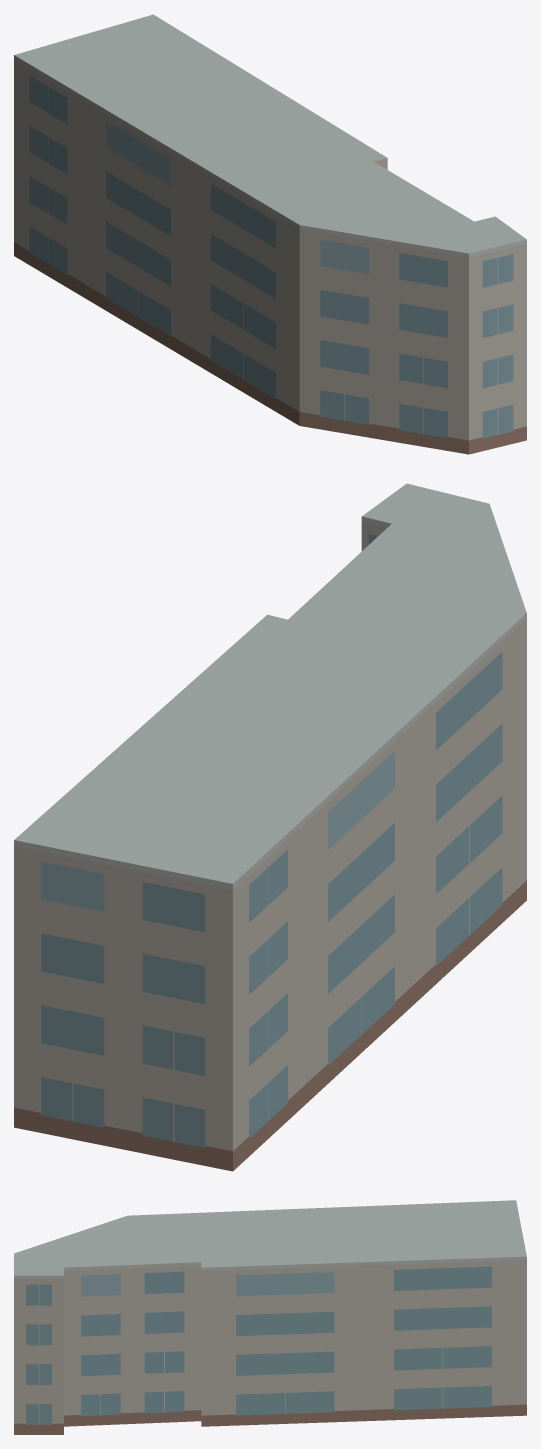
Rendered from survey-upis-32485203.glb.
3 views of the same model, one above another, from view 1: azimuth 30°, elevation 25°; view 2: azimuth 150°, elevation 25°; view 3: azimuth 270°, elevation 25° (orthographic). The views are drawn at different scales.
Parts seen in each view (by area): view 1: survey-upis-32485203.tmp; view 2: survey-upis-32485203.tmp; view 3: survey-upis-32485203.tmp.
Boxes of the visible parts, left/top/right/bottom form: survey-upis-32485203.tmp: left=14, top=14, right=526, bottom=454; survey-upis-32485203.tmp: left=14, top=483, right=526, bottom=1171; survey-upis-32485203.tmp: left=14, top=1200, right=526, bottom=1434.
Bounding box in the file's own units: 12.45 × 12.2 × 35.67.
